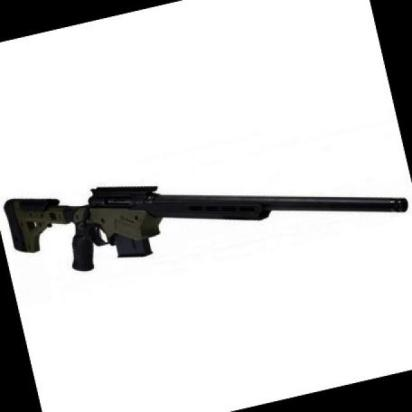Gun: (5, 188, 411, 266)
